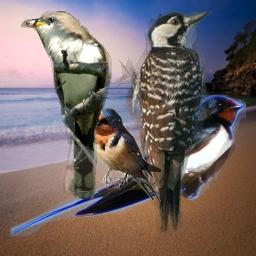Cuckoo: (21, 11, 112, 199)
Swallow: (8, 95, 246, 236), (85, 107, 161, 204)
Woodpecker: (111, 11, 214, 245)
